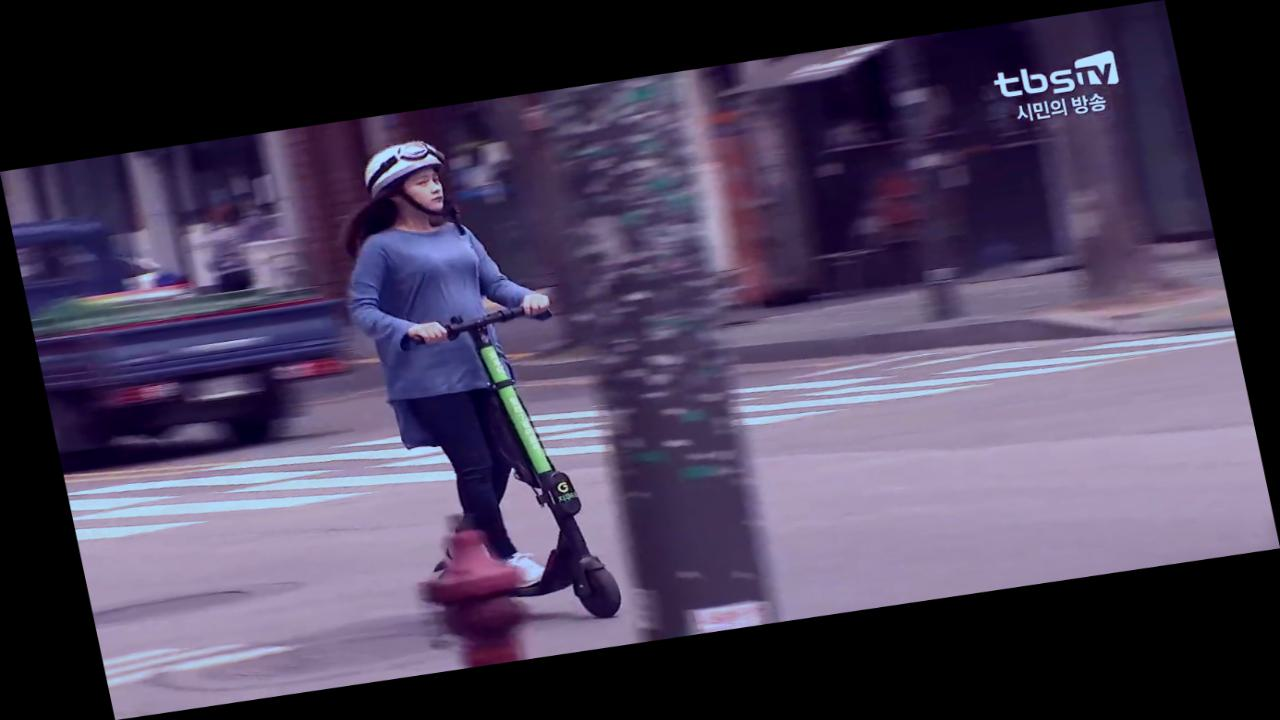helmet: (314, 120, 632, 649)
